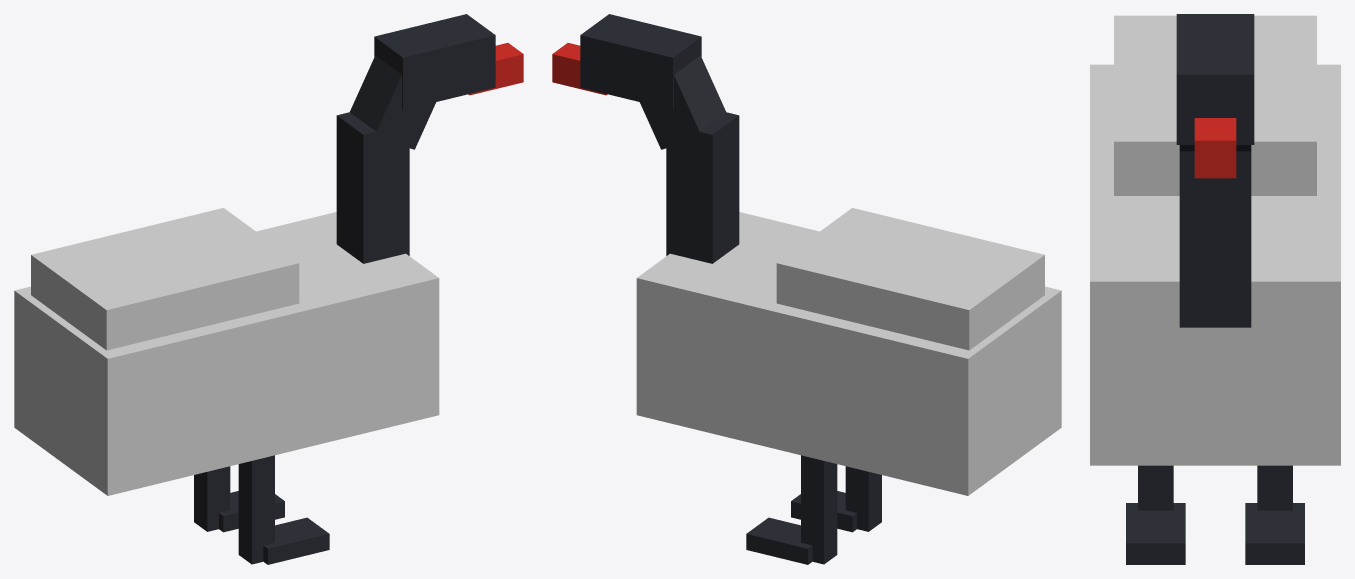
File: cisne_cuello_negro.obj
The picture shows the model from 3 angles, left to right: view 1: azimuth 30°, elevation 25°; view 2: azimuth 150°, elevation 25°; view 3: azimuth 270°, elevation 25°; orthographic projection. The views are drawn at different scales.
Parts seen in each view (by area): view 1: cisne_cuello_negro; view 2: cisne_cuello_negro; view 3: cisne_cuello_negro.
Part boxes in pixels (x1,y1,x2,y2): cisne_cuello_negro: [14, 14, 523, 564]; cisne_cuello_negro: [552, 14, 1061, 564]; cisne_cuello_negro: [1090, 14, 1340, 564].
Size of the model in its own units: 1.18 by 1.13 by 0.42.
